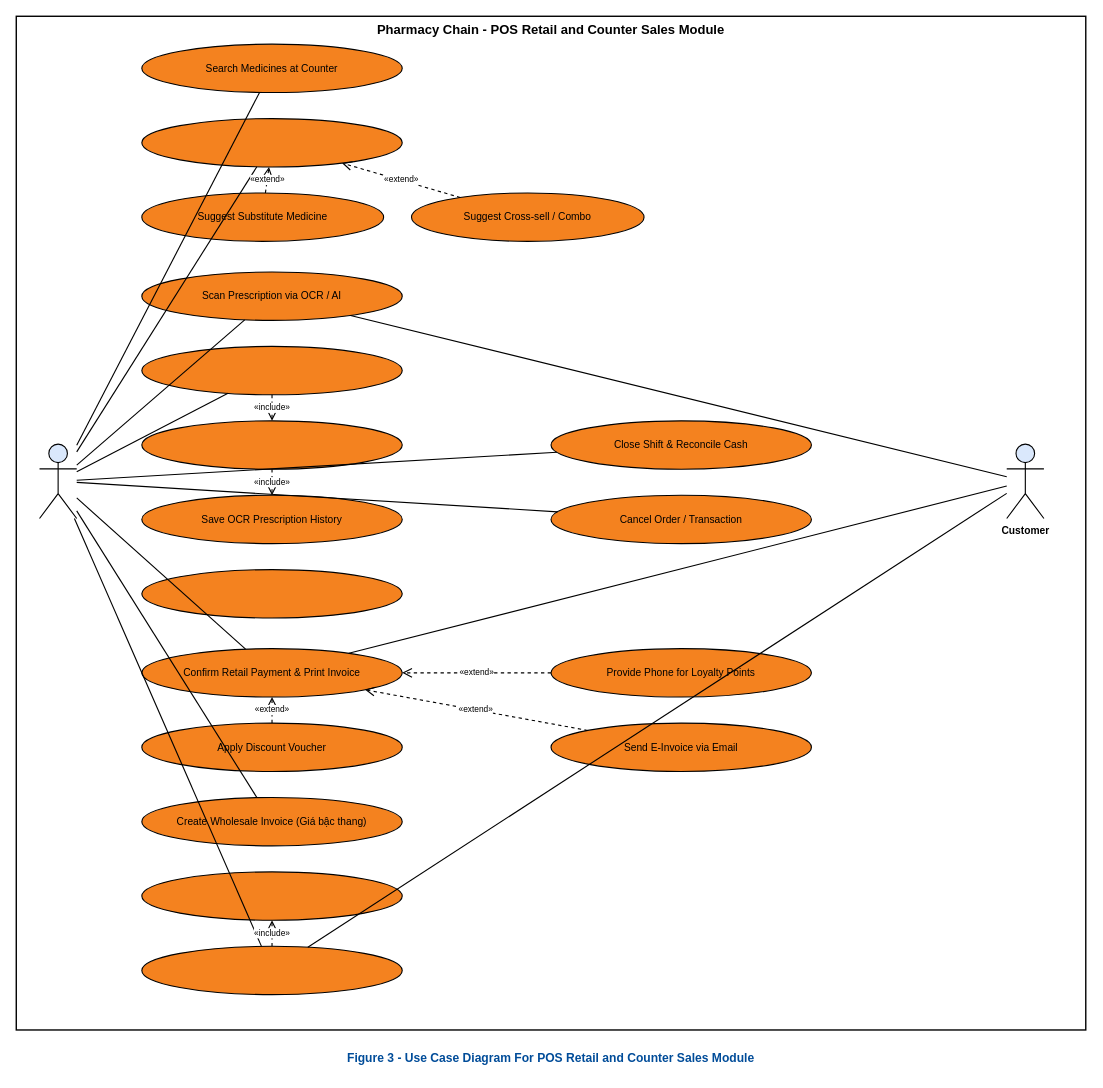
This 1103x1088 diagram has some shape labels left out. Here are the shapes that lost their labels. From the top down, the centre of each, then its label:
At (x=271, y=142): "Add Medicines to POS Cart".
At (x=271, y=370): "Pharmacist Confirms OCR Result".
At (x=271, y=444): "Check Medicine Interactions (AI)".
At (x=58, y=481): "Pharmacist".
At (x=271, y=593): "View AI Voice Consultation History".
At (x=271, y=895): "Search Return Invoice".
At (x=271, y=970): "Create Return Slip & Refund".
